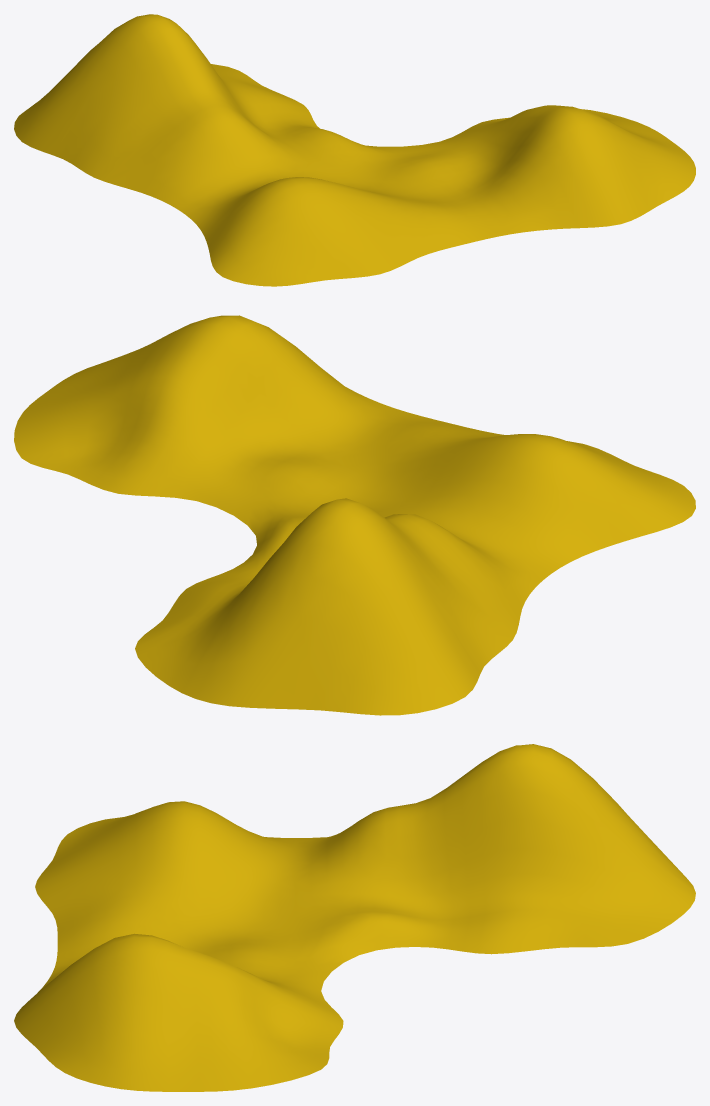
The model's file is Gold_dune.fbx.
The picture shows the model from 3 angles, top to bottom: view 1: azimuth 30°, elevation 25°; view 2: azimuth 150°, elevation 25°; view 3: azimuth 270°, elevation 25°; orthographic projection. The views are drawn at different scales.
Visible parts, largest first — view 1: Gold_dune; view 2: Gold_dune; view 3: Gold_dune.
Part boxes in pixels (box(x1,y1,x2,y2)): Gold_dune: box(14, 14, 695, 286); Gold_dune: box(14, 315, 695, 715); Gold_dune: box(14, 744, 695, 1091).
Size of the model in its own units: 9.73 by 2.07 by 9.96.
